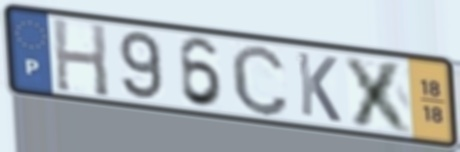6: (177, 34, 224, 111)
9: (114, 28, 166, 103)
C: (228, 42, 292, 119)
H: (50, 15, 112, 100)
K: (294, 49, 343, 126)
X: (341, 53, 417, 137)
